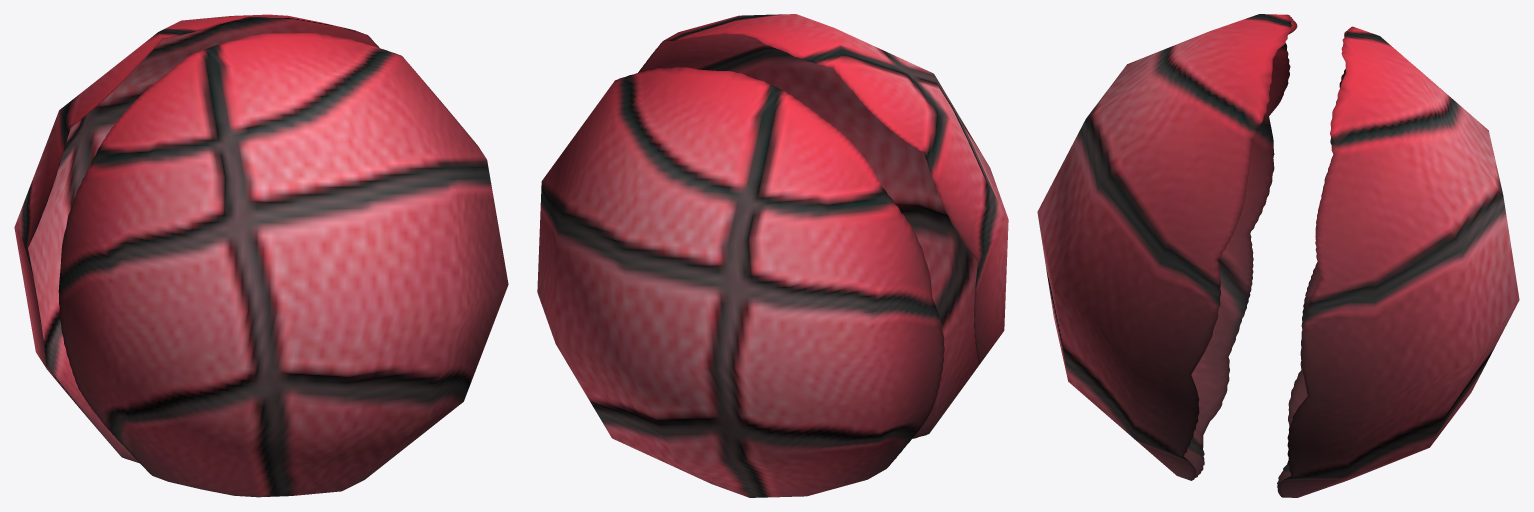
File: G_NaErSenEeZiDeFangJian_lanqiu_01.FBX
The picture shows the model from 3 angles, left to right: view 1: azimuth 30°, elevation 25°; view 2: azimuth 150°, elevation 25°; view 3: azimuth 270°, elevation 25°; orthographic projection. The views are drawn at different scales.
Visible parts, largest first — view 1: NaErSenErZideFangJian_lanqiu_01; view 2: NaErSenErZideFangJian_lanqiu_01; view 3: NaErSenErZideFangJian_lanqiu_01.
Boxes of the visible parts, box(x1,y1,x2,y2) form: NaErSenErZideFangJian_lanqiu_01: box(14, 14, 508, 497); NaErSenErZideFangJian_lanqiu_01: box(537, 14, 1008, 497); NaErSenErZideFangJian_lanqiu_01: box(1037, 14, 1519, 497).
Size of the model in its own units: 115 by 115 by 116.
